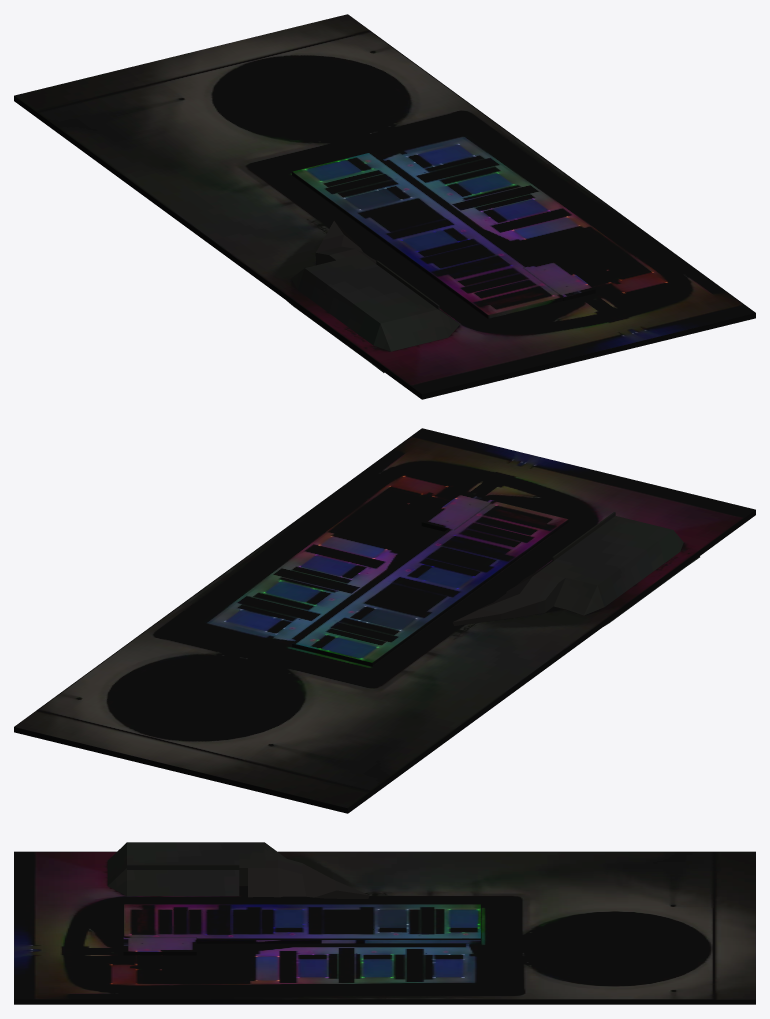
File: Floors-transformed.glb
The picture shows the model from 3 angles, top to bottom: view 1: azimuth 30°, elevation 25°; view 2: azimuth 150°, elevation 25°; view 3: azimuth 270°, elevation 25°; orthographic projection. The views are drawn at different scales.
Parts seen in each view (by area): view 1: Cube.607, Cube.545, CRC_Hill, Cube.004; view 2: Cube.607, Cube.545, CRC_Hill, Cube.004; view 3: Cube.607, Cube.545, CRC_Hill, Cube.004.
Boxes of the visible parts, x1=… form: Cube.607: x1=14, y1=14, x2=755, y2=399; Cube.545: x1=292, y1=152, x2=562, y2=318; CRC_Hill: x1=287, y1=220, x2=459, y2=372; Cube.004: x1=523, y1=260, x2=595, y2=300; Cube.607: x1=14, y1=428, x2=755, y2=813; Cube.545: x1=292, y1=501, x2=568, y2=666; CRC_Hill: x1=452, y1=512, x2=699, y2=626; Cube.004: x1=421, y1=493, x2=493, y2=531; Cube.607: x1=14, y1=851, x2=755, y2=1004; Cube.545: x1=124, y1=904, x2=480, y2=943; CRC_Hill: x1=107, y1=842, x2=369, y2=898; Cube.004: x1=123, y1=937, x2=196, y2=955.
Size of the model in its own units: 3808 by 633 by 8062.
Materials: 1 (1 with a texture image).
